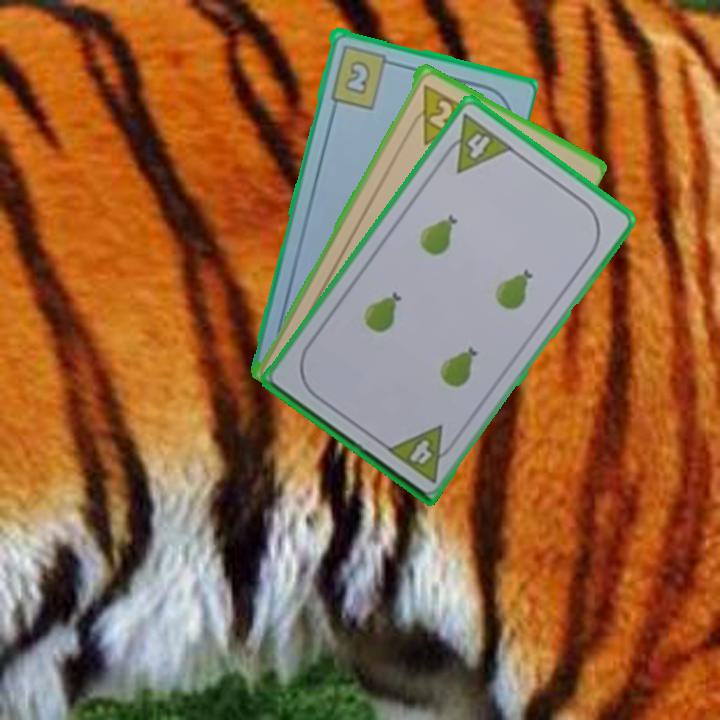2b: (326, 41, 398, 111)
2p: (404, 79, 477, 148)
4p: (436, 110, 516, 176), (382, 421, 461, 485)
